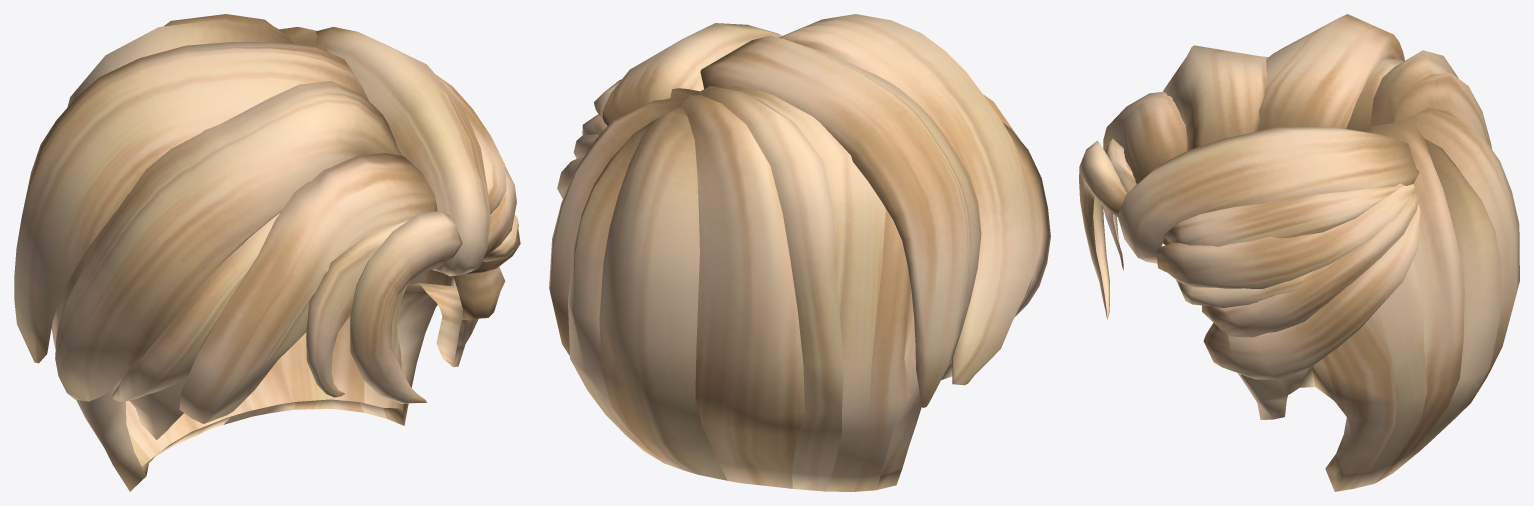
Rendered from Boy_Hair_01.fbx.
3 renders of one model, left to right at view 1: azimuth 30°, elevation 25°; view 2: azimuth 150°, elevation 25°; view 3: azimuth 270°, elevation 25°, orthographic. The views are drawn at different scales.
Parts seen in each view (by area): view 1: Boy_Hair_01; view 2: Boy_Hair_01; view 3: Boy_Hair_01.
Boxes of the visible parts, <box> form: Boy_Hair_01: <box>14,14,520,491</box>; Boy_Hair_01: <box>549,14,1050,491</box>; Boy_Hair_01: <box>1079,14,1519,491</box>.
Bounding box in the file's own units: 33.68 × 31.07 × 33.52.
